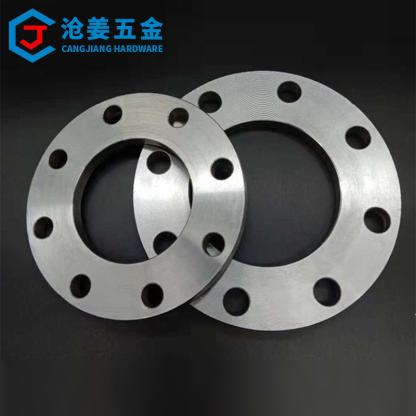FOD: (130, 65, 404, 337), (22, 90, 246, 325)
